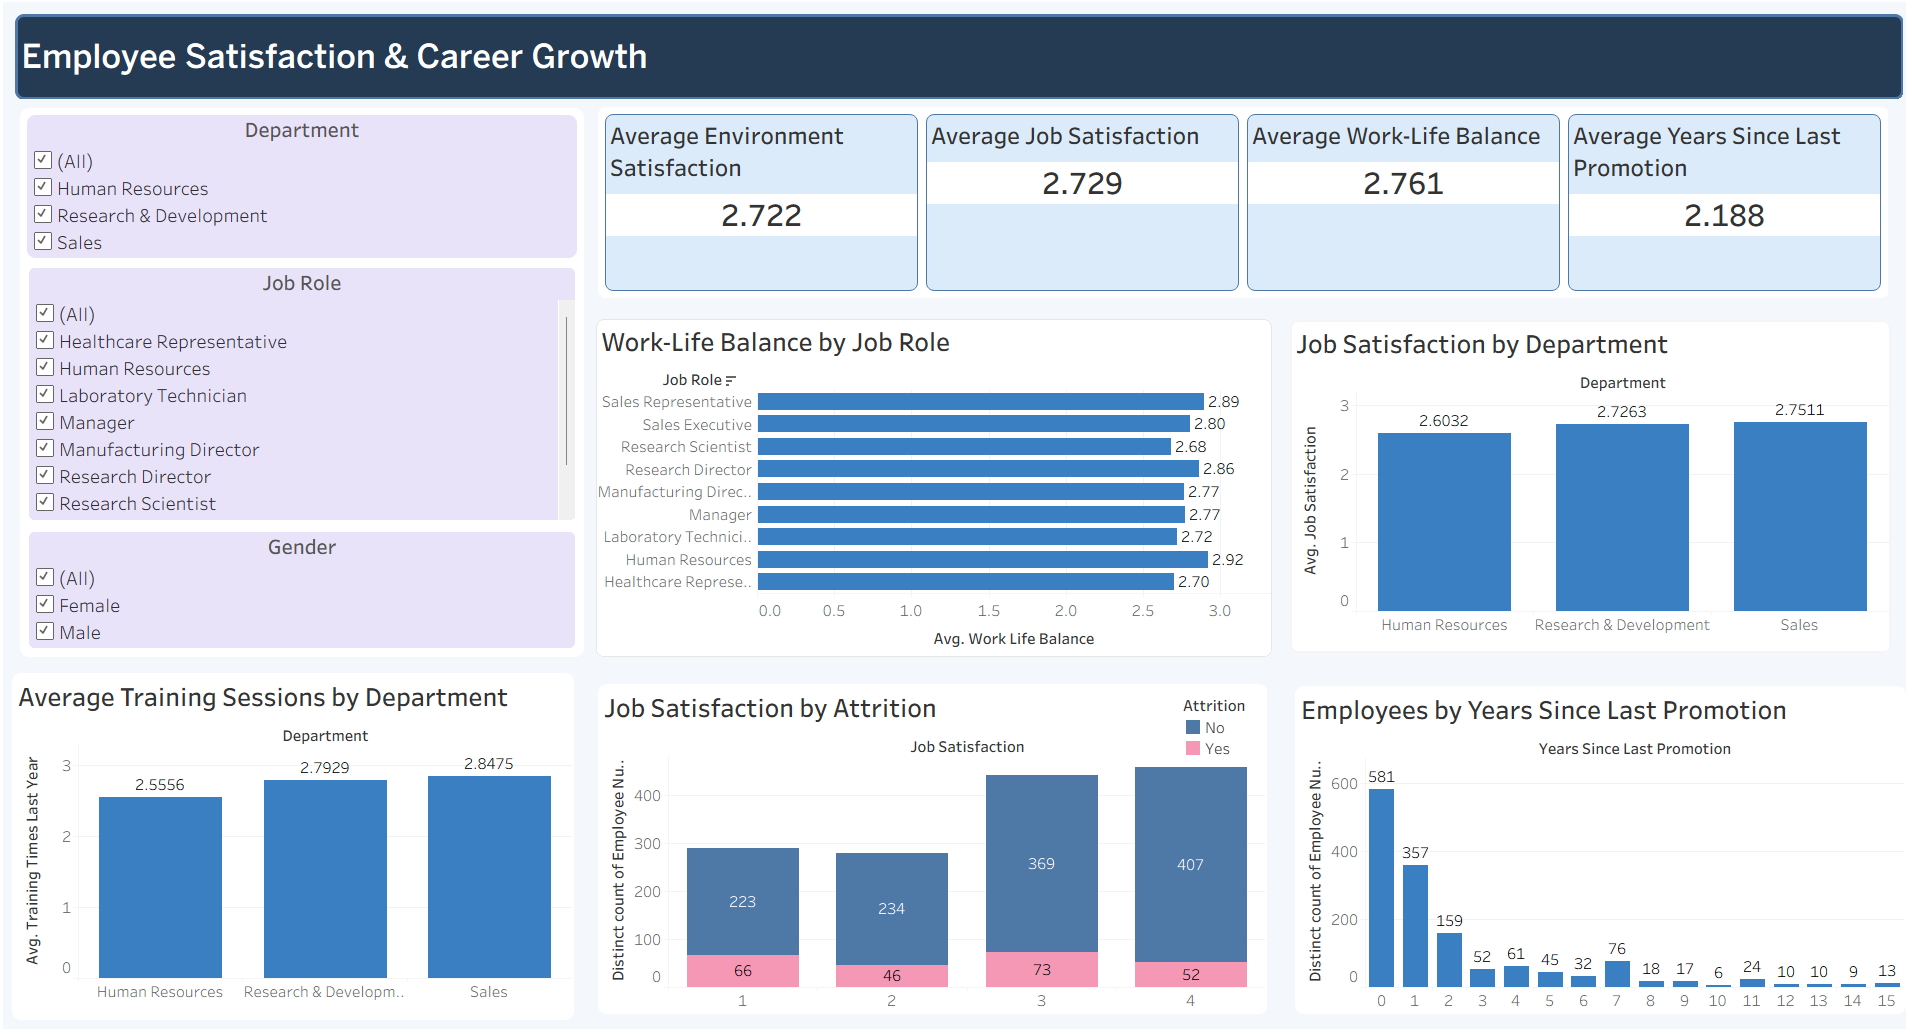

The page's visual inventory and layout, read from the dashboard file:
{"tool":"tableau","page":{"name":"Dashboard 3","canvas":[1000,1000],"units":"permille","ordinal":2},"visuals":[{"type":"text","box":[10.3,18.8,983.7,82.3]},{"type":"worksheet","title":"Average Environment Satisfaction","mark":"Automatic","box":[315.6,111.6,167.2,176.3]},{"type":"worksheet","title":"Average Job Satisfaction","mark":"Automatic","box":[482.8,111.6,167.2,176.3]},{"type":"worksheet","title":"Average Work-Life Balance","mark":"Automatic","box":[650,111.6,167.2,176.3]},{"type":"worksheet","title":"Average Years Since Last Promotion","mark":"Automatic","box":[817.1,111.6,167.2,176.3]},{"type":"filter","title":"Work-Life Balance by Job Role","param":"[federated.1jk4maq1to989f1353upk0luzgk6].[none:Department:nk]","box":[15.1,112.8,290.3,177.4]},{"type":"filter","title":"Work-Life Balance by Job Role","param":"[federated.1jk4maq1to989f1353upk0luzgk6].[none:JobRole:nk]","box":[15.1,290.2,290.3,191.5]},{"type":"worksheet","title":"Work-Life Balance by Job Role","mark":"Automatic","rows":["JobRole"],"cols":["WorkLifeBalance"],"box":[313.2,311.4,351.8,324.3]},{"type":"worksheet","title":"Job Satisfaction by Department","mark":"Automatic","rows":["JobSatisfaction"],"cols":["Department"],"box":[674.7,312.6,313.2,319.6]},{"type":"filter","title":"Work-Life Balance by Job Role","param":"[federated.1jk4maq1to989f1353upk0luzgk6].[none:Gender:nk]","box":[15.1,481.8,290.3,150.4]},{"type":"worksheet","title":"Average Training Sessions by Department","mark":"Automatic","rows":["TrainingTimesLastYear"],"cols":["Department"],"box":[9.1,651,292.7,332.6]},{"type":"worksheet","title":"Job Satisfaction by Attrition","mark":"Bar","rows":["EmployeeNumber"],"cols":["JobSatisfaction"],"box":[313.8,661.6,348.8,316.1]},{"type":"worksheet","title":"Employees by Years Since Last Promotion","mark":"Automatic","rows":["EmployeeNumber"],"cols":["YearsSinceLastPromotion"],"box":[677.1,663.9,318,314.9]},{"type":"legend","title":"Job Satisfaction by Attrition","param":"[federated.1jk4maq1to989f1353upk0luzgk6].[none:Attrition:nk]","box":[618.6,672.1,84.5,75.2]}]}

Visuals, with their boxes on the dashboard's canvas, which has no fixed pixel size, in thousandths of its width and height (x1, y1, x2, y2). These are canvas units, not pixel positions in the 1912x1035 screenshot, which may show the page scaled, cropped or inside an application window:
text: {"x1": 10, "y1": 19, "x2": 994, "y2": 101}
"Average Environment Satisfaction" worksheet: {"x1": 316, "y1": 112, "x2": 483, "y2": 288}
"Average Job Satisfaction" worksheet: {"x1": 483, "y1": 112, "x2": 650, "y2": 288}
"Average Work-Life Balance" worksheet: {"x1": 650, "y1": 112, "x2": 817, "y2": 288}
"Average Years Since Last Promotion" worksheet: {"x1": 817, "y1": 112, "x2": 984, "y2": 288}
"Work-Life Balance by Job Role" filter: {"x1": 15, "y1": 113, "x2": 305, "y2": 290}
"Work-Life Balance by Job Role" filter: {"x1": 15, "y1": 290, "x2": 305, "y2": 482}
"Work-Life Balance by Job Role" worksheet: {"x1": 313, "y1": 311, "x2": 665, "y2": 636}
"Job Satisfaction by Department" worksheet: {"x1": 675, "y1": 313, "x2": 988, "y2": 632}
"Work-Life Balance by Job Role" filter: {"x1": 15, "y1": 482, "x2": 305, "y2": 632}
"Average Training Sessions by Department" worksheet: {"x1": 9, "y1": 651, "x2": 302, "y2": 984}
"Job Satisfaction by Attrition" worksheet (Bar marks): {"x1": 314, "y1": 662, "x2": 663, "y2": 978}
"Employees by Years Since Last Promotion" worksheet: {"x1": 677, "y1": 664, "x2": 995, "y2": 979}
"Job Satisfaction by Attrition" legend: {"x1": 619, "y1": 672, "x2": 703, "y2": 747}
